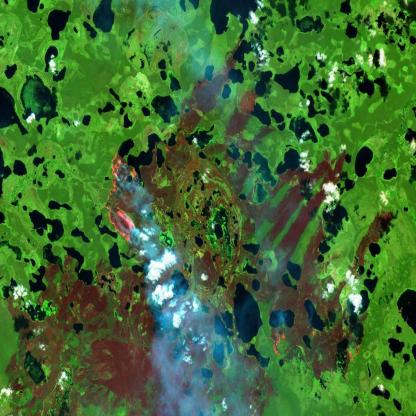fire: (99, 146, 149, 248), (265, 322, 299, 360)
